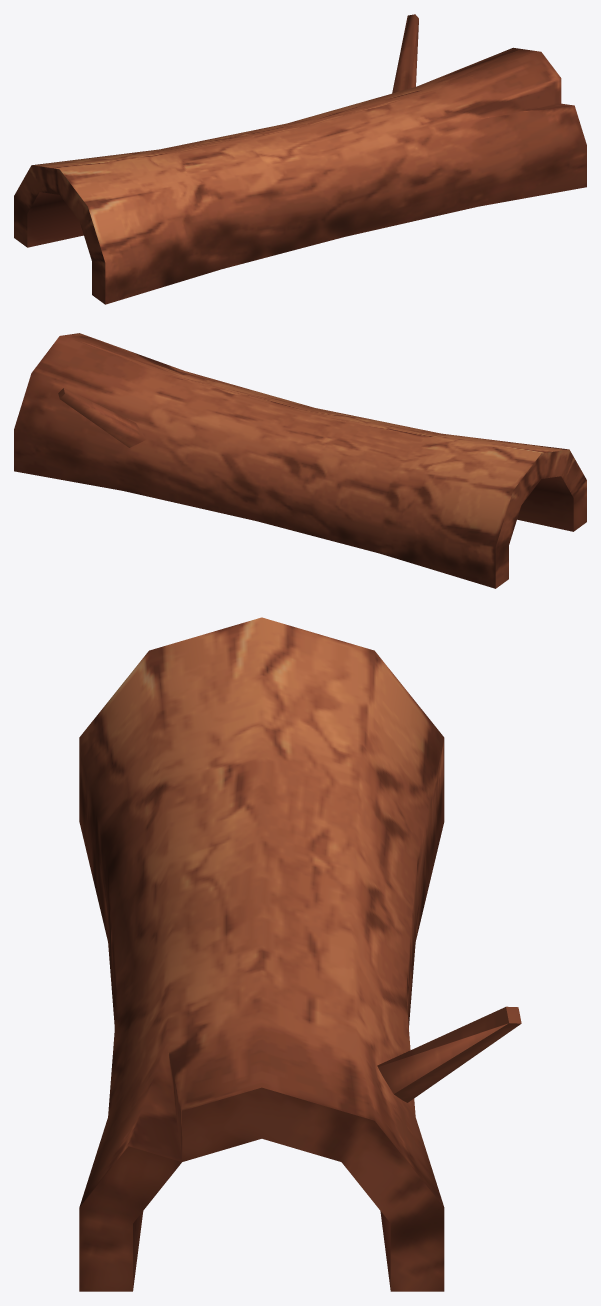
File: Tree_01.fbx
3 renders of one model, top to bottom at view 1: azimuth 30°, elevation 25°; view 2: azimuth 150°, elevation 25°; view 3: azimuth 270°, elevation 25°, orthographic. The views are drawn at different scales.
Visible parts, largest first — view 1: Tree_01; view 2: Tree_01; view 3: Tree_01.
Boxes of the visible parts, x1,y1,x2,y2 form: Tree_01: (14, 14, 586, 304); Tree_01: (14, 333, 586, 588); Tree_01: (79, 617, 521, 1291).
Size of the model in its own units: 1.73 by 0.3795 by 0.6871.
